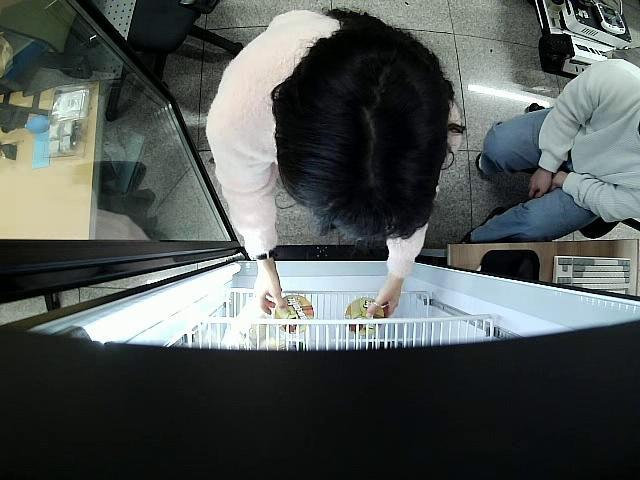04_chapagetti_S: (274, 294, 316, 335), (346, 298, 388, 338)
